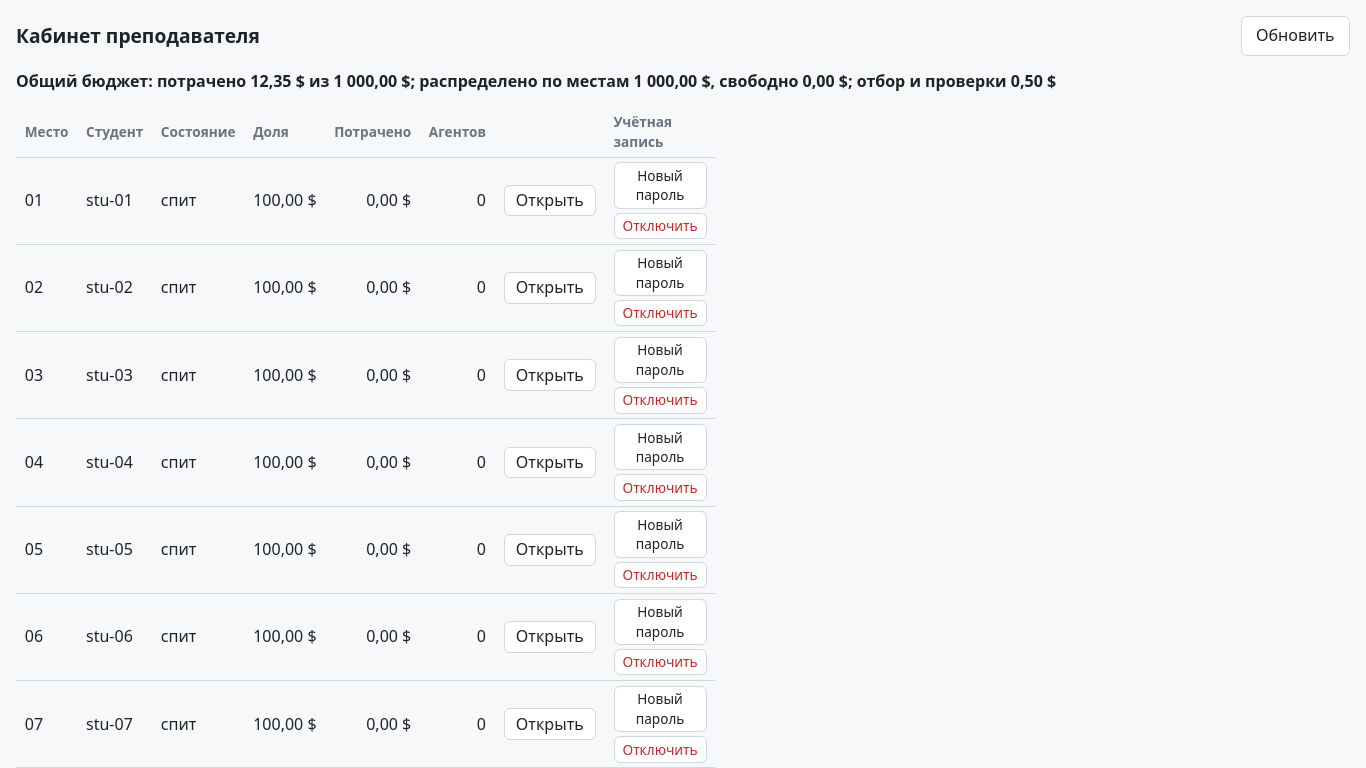
Test: sleeping_place_wakes_by_button_and_polls
This screenshot has width=1366, height=768.
Click the button "Открыть" in the row of "stu-05".
click(550, 550)  # box [504, 534, 596, 566]
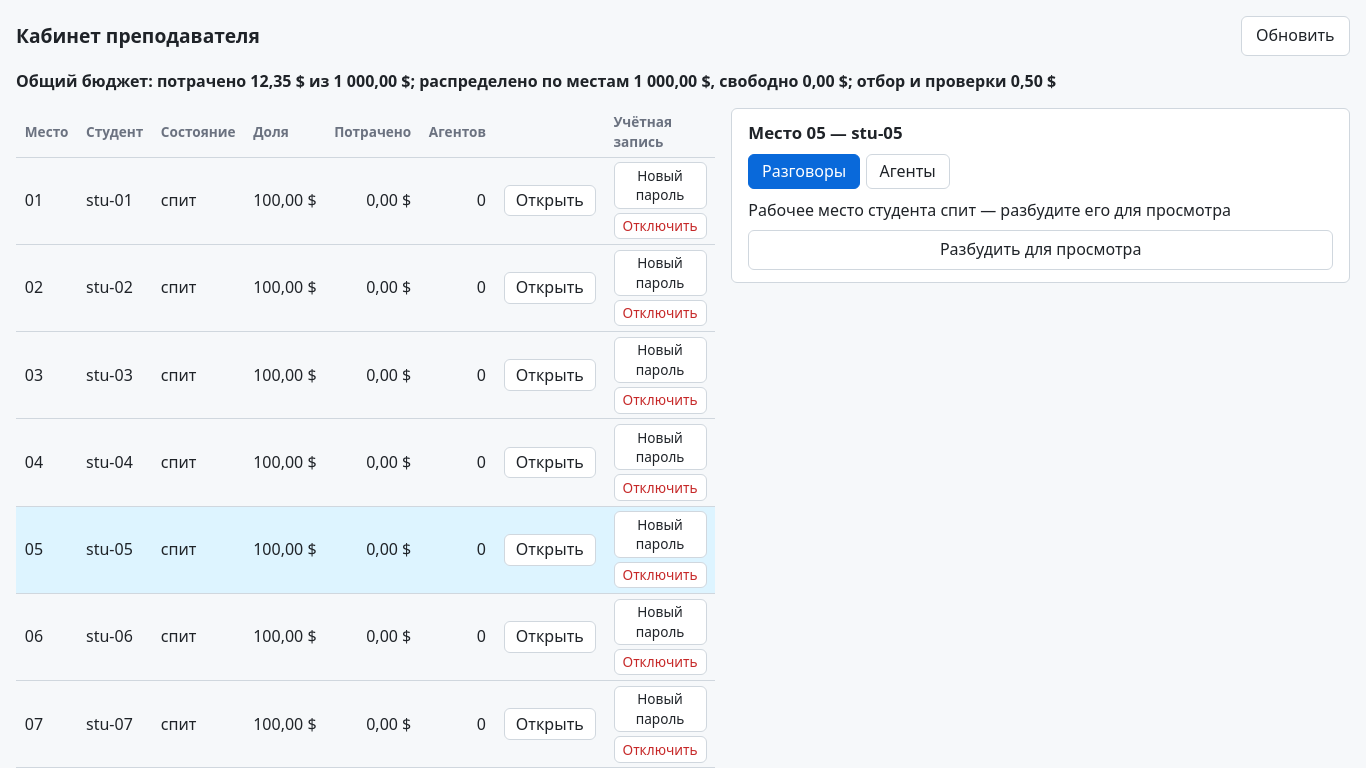
Click the button "Разбудить для просмотра".
click(1041, 250)  # box [748, 230, 1333, 270]
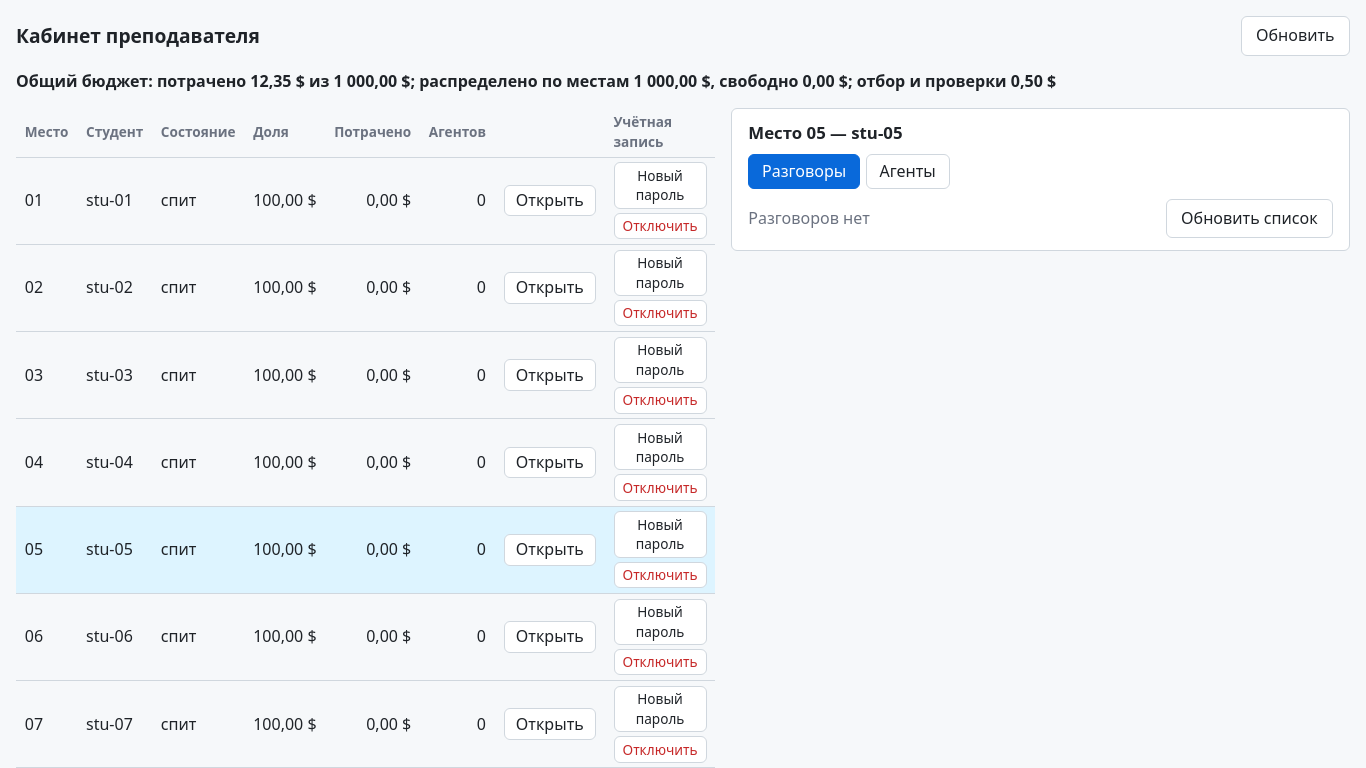
Expected: the text "Разговоров нет" is shown, [748, 207, 870, 230]
Expected: the button "Разбудить для просмотра" is gone
